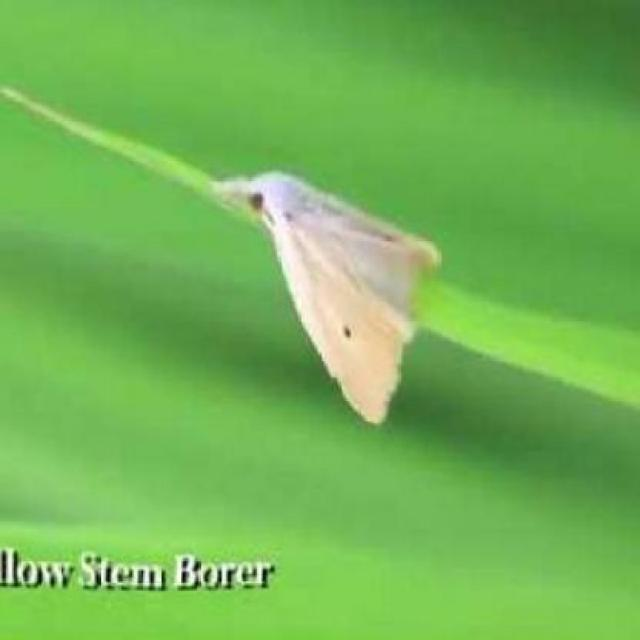stem-borer: (209, 169, 443, 429)
